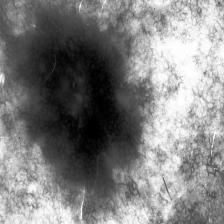Benign Marking or Mole: (16, 17, 140, 190)
